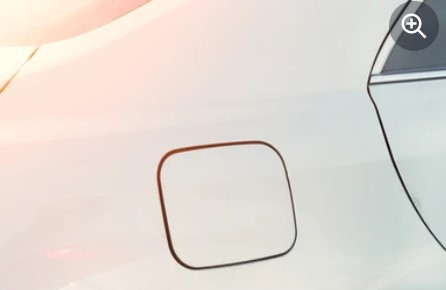closed: (154, 138, 305, 271)
